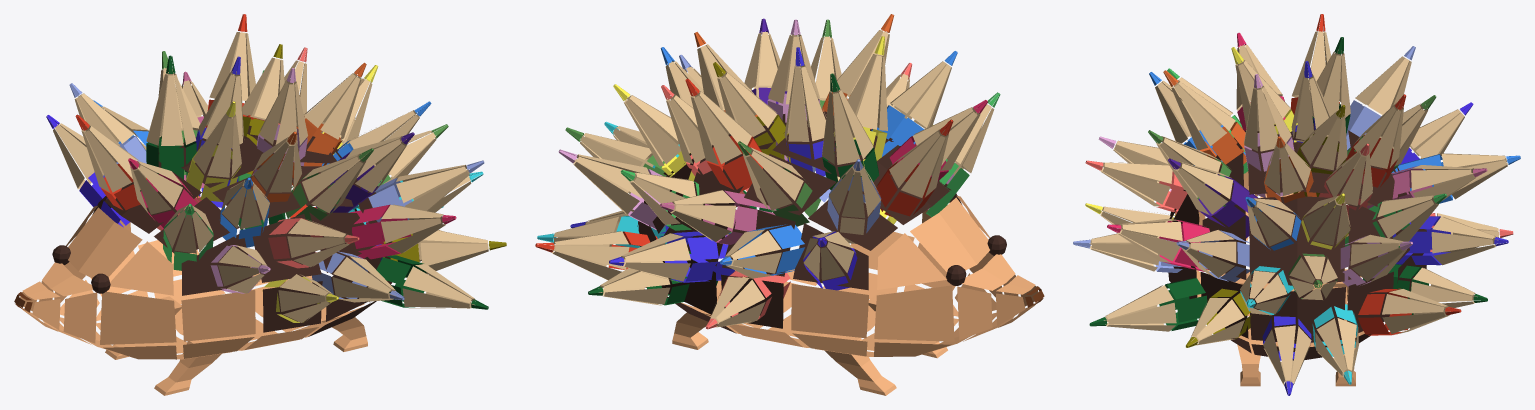
File: StiftDozi.fbx
The picture shows the model from 3 angles, left to right: view 1: azimuth 30°, elevation 25°; view 2: azimuth 150°, elevation 25°; view 3: azimuth 270°, elevation 25°; orthographic projection. The views are drawn at different scales.
Visible parts, largest first — view 1: Igel, stift02.009, stift01.004, stift01.011, stift01.001, stift01.007, stift02.012, stift01.009, stift01.021, stift01, stift01.017, stift02.001 (+21 smaller); view 2: Igel, stift02.011, stift01.012, stift01, stift02.006, stift01.004, stift02.017, stift02.010, stift01.005, stift01.019, stift01.006, stift01.013 (+21 smaller); view 3: Igel, stift01.011, stift01.008, stift01.013, stift02.011, stift02.007, stift02.009, stift01.009, stift02.002, stift02.004, stift01.007, stift01.015 (+29 smaller).
Boxes of the visible parts, <box> form: Igel: <box>14,125,392,395</box>; stift02.009: <box>349,204,456,259</box>; stift01.004: <box>146,55,196,180</box>; stift01.011: <box>376,255,488,309</box>; stift01.001: <box>186,101,241,201</box>; stift01.007: <box>368,160,484,222</box>; stift02.012: <box>296,62,366,166</box>; stift01.009: <box>268,218,359,268</box>; stift01.021: <box>285,148,373,221</box>; stift01: <box>75,114,146,210</box>; stift01.017: <box>312,251,404,302</box>; stift02.001: <box>128,158,198,229</box>; Igel: <box>637,111,1044,395</box>; stift02.011: <box>609,231,734,282</box>; stift01.012: <box>685,78,762,192</box>; stift01: <box>876,119,953,216</box>; stift02.006: <box>660,190,776,244</box>; stift01.004: <box>822,73,878,190</box>; stift02.017: <box>871,51,957,156</box>; stift02.010: <box>720,224,804,278</box>; stift01.005: <box>738,141,820,226</box>; stift01.019: <box>784,47,834,176</box>; stift01.006: <box>558,149,665,229</box>; stift01.013: <box>535,231,657,287</box>; Igel: <box>1168,123,1426,386</box>; stift01.011: <box>1089,277,1207,331</box>; stift01.008: <box>1163,70,1246,165</box>; stift01.013: <box>1358,288,1461,335</box>; stift02.011: <box>1392,216,1508,265</box>; stift02.007: <box>1168,158,1257,238</box>; stift02.009: <box>1107,219,1209,271</box>; stift01.009: <box>1085,160,1187,213</box>; stift02.002: <box>1244,74,1294,197</box>; stift02.004: <box>1346,46,1415,150</box>; stift01.007: <box>1176,230,1249,282</box>; stift01.015: <box>1312,304,1358,384</box>.
Size of the model in its own units: 56.43 by 34.3 by 49.67.
